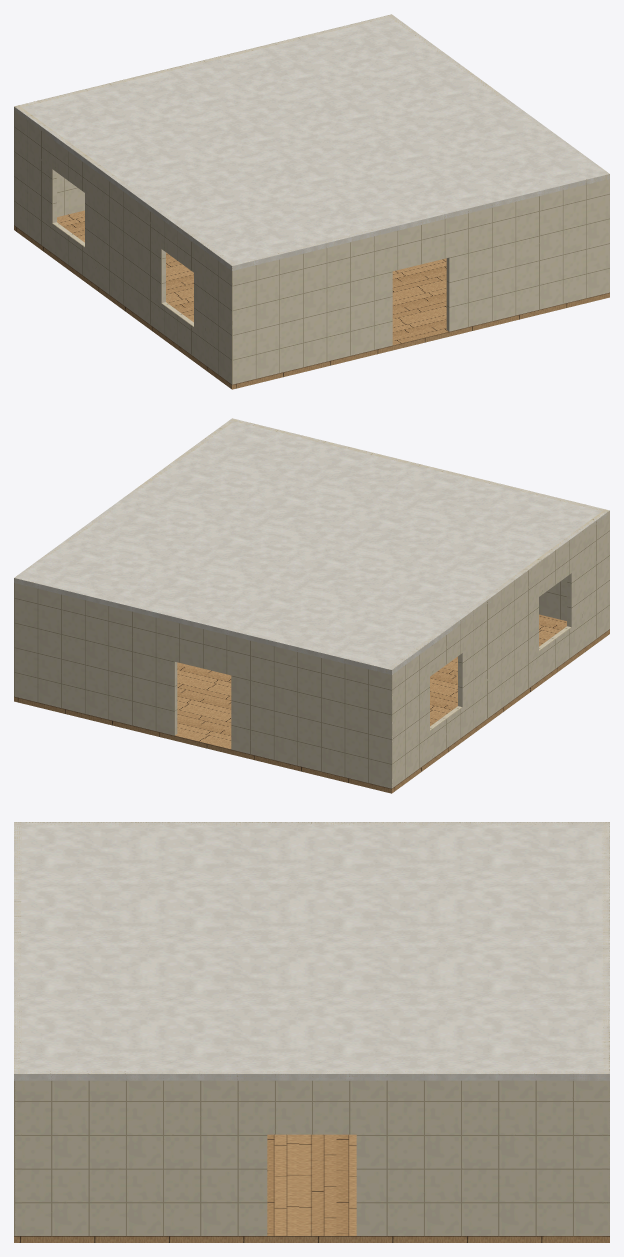
Rendered from room-gallery.obj.
3 renders of one model, top to bottom at view 1: azimuth 30°, elevation 25°; view 2: azimuth 150°, elevation 25°; view 3: azimuth 270°, elevation 25°, orthographic. The views are drawn at different scales.
Parts seen in each view (by area): view 1: ceiling, wall, floor; view 2: ceiling, wall, floor; view 3: ceiling, wall, floor.
Part boxes in pixels (x1=…): ceiling: x1=14, y1=14, x2=609, y2=270; wall: x1=14, y1=14, x2=609, y2=384; floor: x1=14, y1=210, x2=609, y2=389; ceiling: x1=14, y1=418, x2=609, y2=674; wall: x1=14, y1=418, x2=609, y2=788; floor: x1=14, y1=614, x2=609, y2=793; ceiling: x1=14, y1=822, x2=609, y2=1080; wall: x1=14, y1=822, x2=609, y2=1235; floor: x1=14, y1=1134, x2=609, y2=1242.
Bounding box in the file's own units: 16 × 5 × 16.
Materials: 3 (3 with a texture image).
